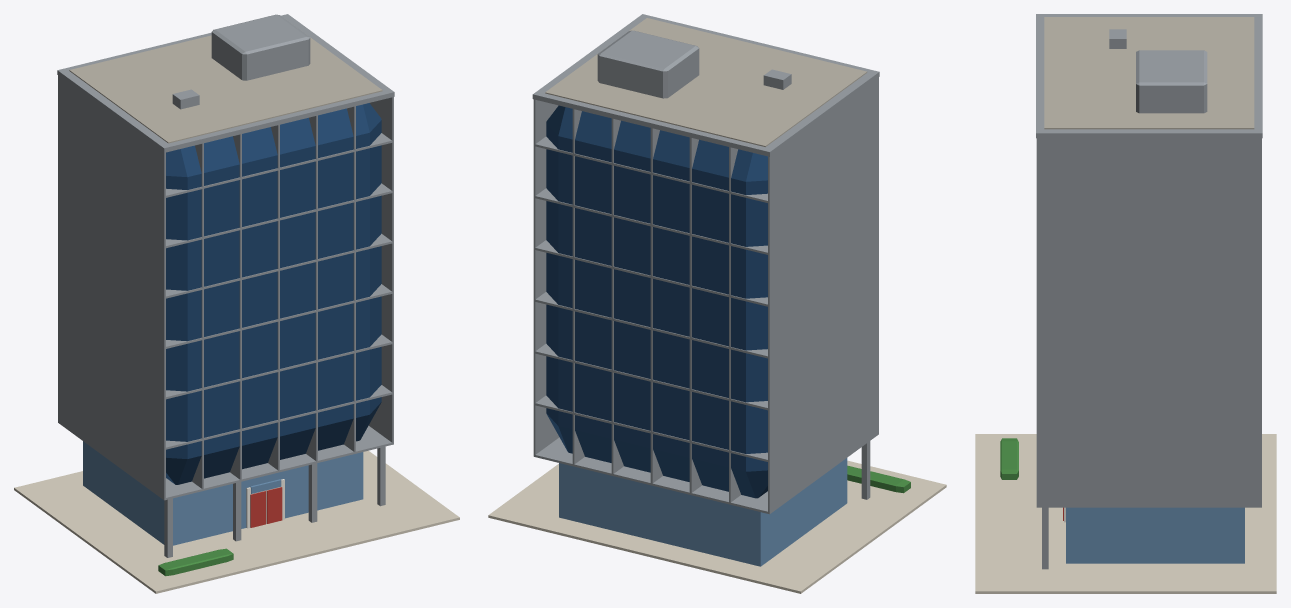
Rendered from office_f8_ribbon_w18.glb.
3 views of the same model, side by side, from view 1: azimuth 30°, elevation 25°; view 2: azimuth 150°, elevation 25°; view 3: azimuth 270°, elevation 25° (orthographic). The views are drawn at different scales.
Parts seen in each view (by area): view 1: slab, mullv, plaza, roofslab, lobby, penthouse, roofband, mullv.006, mullh, mullv.003, mullv.002, mullv.004 (+11 smaller); view 2: slab, mullv, roofslab, lobby, plaza, roofband, penthouse, mullv.006, mullh, mullv.004, mullv.003, mullv.002 (+9 smaller); view 3: mullv.006, plaza, roofslab, lobby, roofband, penthouse, planter, piloti.003.
Part boxes in pixels (x1,y1,x2,y2): slab: (166,103,381,484); mullv: (58,71,165,500); plaza: (14,450,459,593); roofslab: (69,35,382,143); lobby: (83,441,363,545); penthouse: (211,14,310,80); roofband: (57,14,394,152); mullv.006: (287,14,393,444); mullh: (166,425,393,499); mullv.003: (268,117,279,472); mullv.002: (230,126,241,481); mullv.004: (306,108,317,461); slab: (546,105,767,498); mullv: (768,72,878,513); roofslab: (545,18,867,146); lobby: (559,458,847,566); plaza: (488,460,946,593); roofband: (532,14,879,156); penthouse: (597,30,699,98); mullv.006: (533,15,641,455); mullh: (534,437,769,514); mullv.004: (611,111,623,475); mullv.003: (650,120,662,484); mullv.002: (689,130,701,493); mullv.006: (1036,132,1261,507); plaza: (975,434,1276,593); roofslab: (1044,17,1254,129); lobby: (1066,507,1244,563); roofband: (1036,14,1262,138); penthouse: (1136,50,1207,113); planter: (1000,438,1018,479); piloti.003: (1042,507,1048,569).
Size of the model in its own units: 24 by 33.58 by 19.4.
